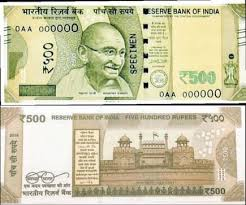fiveHundred: (9, 17, 226, 87)
